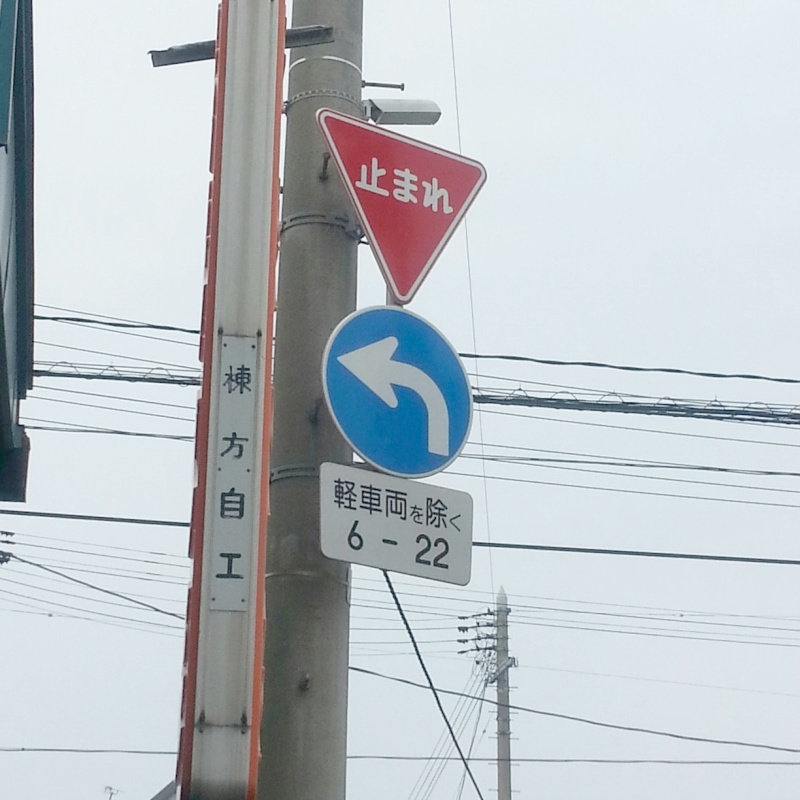Direction_sign: (289, 290, 476, 473)
